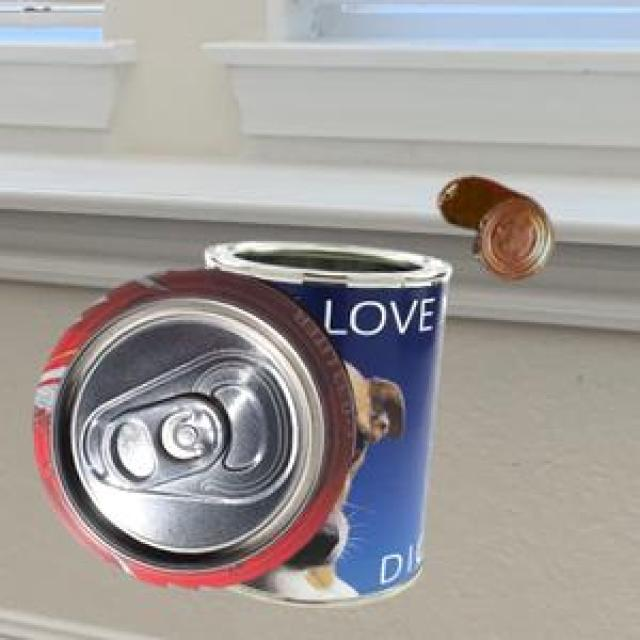logam: (31, 268, 353, 586), (202, 240, 449, 603), (436, 174, 549, 276)
